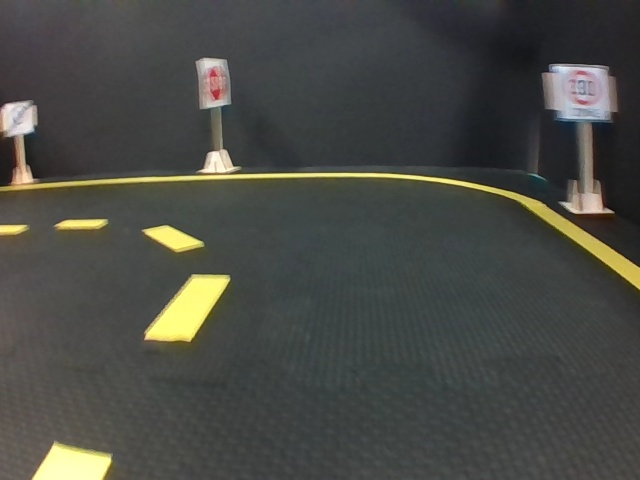30: (554, 62, 609, 122)
no30: (3, 103, 32, 132)
stop: (199, 60, 228, 107)
